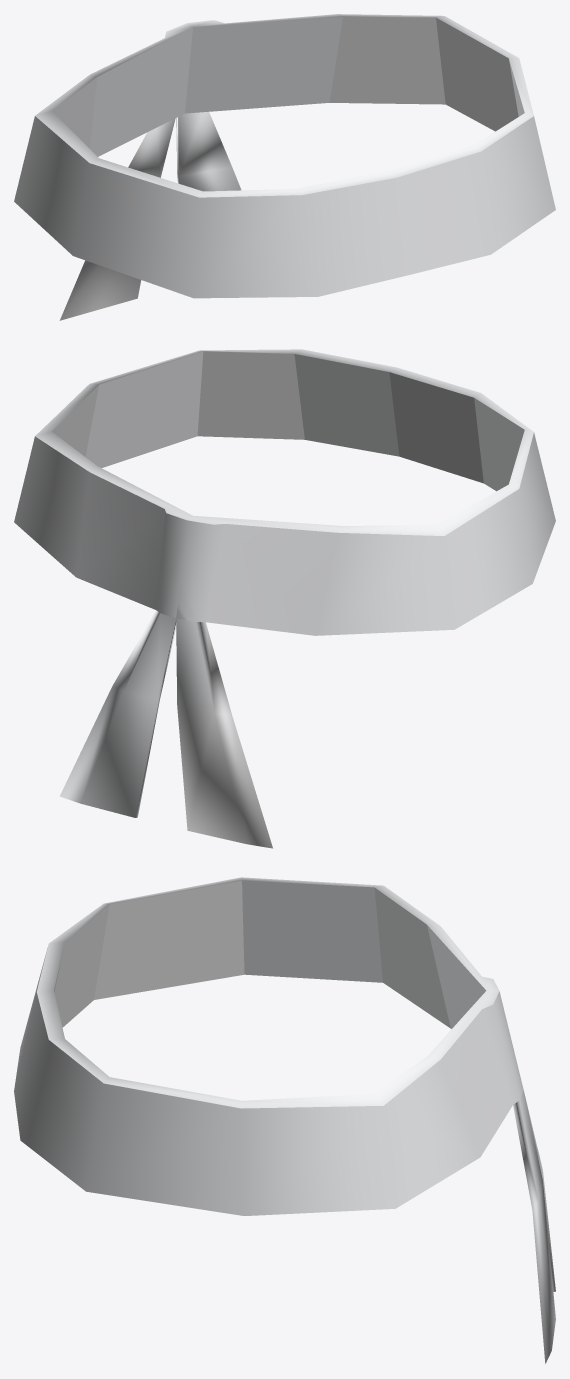
File: Hatimaki.FBX
3 views of the same model, one above another, from view 1: azimuth 30°, elevation 25°; view 2: azimuth 150°, elevation 25°; view 3: azimuth 270°, elevation 25° (orthographic). The views are drawn at different scales.
Parts seen in each view (by area): view 1: Box001; view 2: Box001; view 3: Box001.
Part boxes in pixels (x1,y1,x2,y2): Box001: [14, 14, 555, 320]; Box001: [14, 349, 555, 848]; Box001: [14, 877, 555, 1363].
Bounding box in the file's own units: 6.61 × 3.95 × 6.13.
